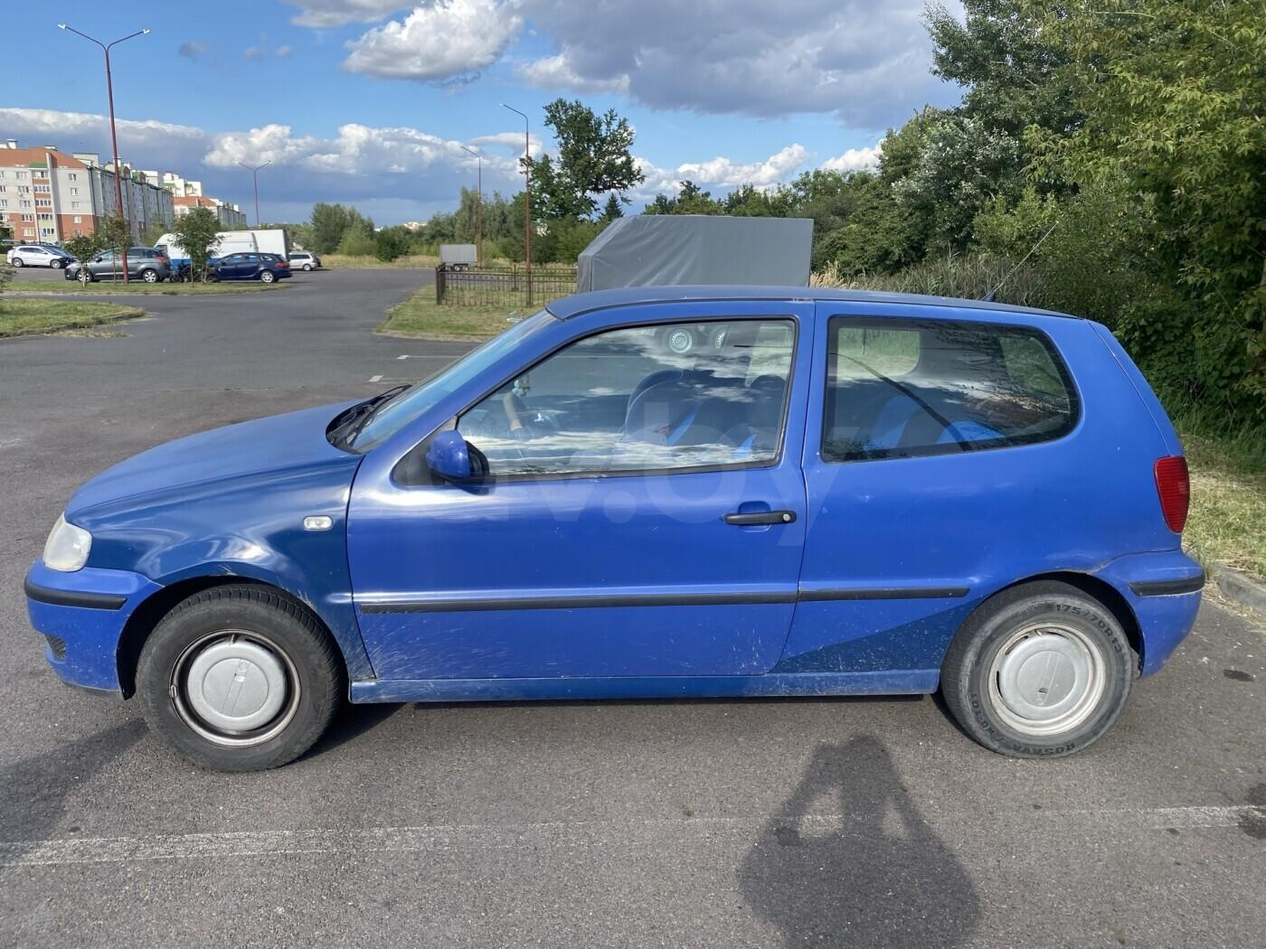Polo_2000-2002: (22, 277, 1209, 788)
